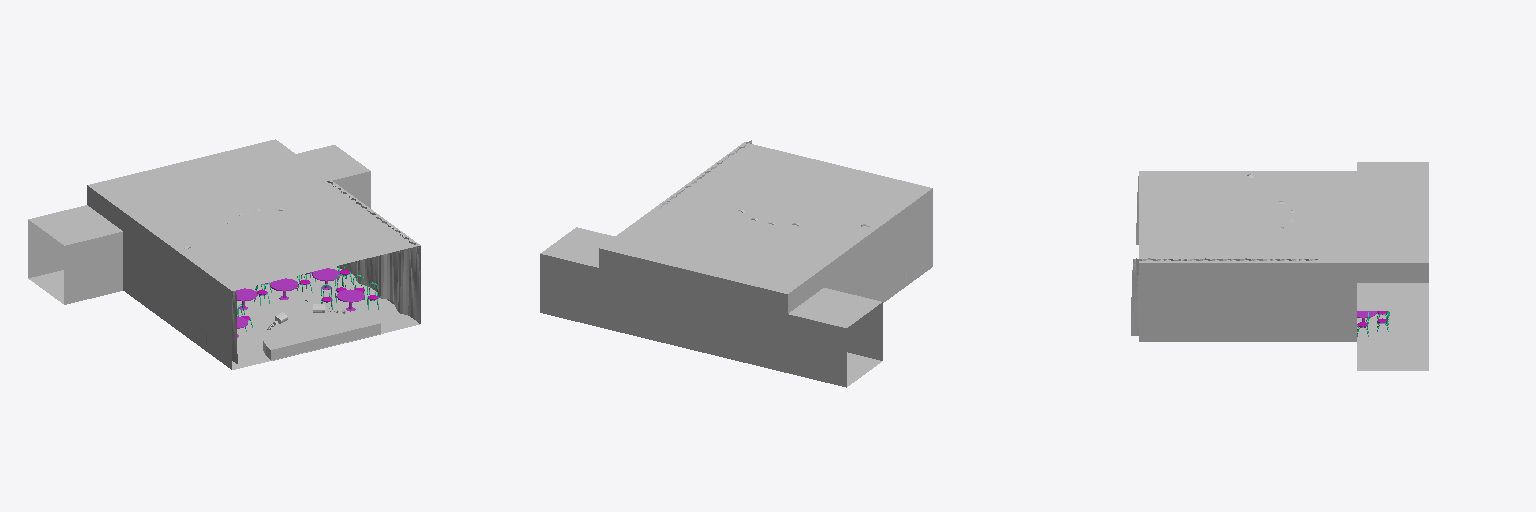
File: Salon.obj
The picture shows the model from 3 angles: view 1: azimuth 30°, elevation 25°; view 2: azimuth 150°, elevation 25°; view 3: azimuth 270°, elevation 25°; orthographic projection.
Visible parts, largest first — view 1: Techo, pared, Suelo.001, Cylinder, Plane; view 2: pared, Techo; view 3: Techo, pared, Suelo.001, Plane.
Boxes of the visible parts, x1=… form: Techo: x1=88, y1=139, x2=420, y2=290; pared: x1=28, y1=145, x2=420, y2=369; Suelo.001: x1=232, y1=266, x2=419, y2=369; Cylinder: x1=263, y1=310, x2=380, y2=360; Plane: x1=327, y1=181, x2=419, y2=323; pared: x1=540, y1=188, x2=932, y2=387; Techo: x1=600, y1=142, x2=931, y2=293; Techo: x1=1139, y1=171, x2=1428, y2=262; pared: x1=1139, y1=162, x2=1428, y2=370; Suelo.001: x1=1357, y1=311, x2=1428, y2=341; Plane: x1=1131, y1=258, x2=1317, y2=335.
Size of the model in its own units: 24.38 by 6.23 by 20.55.